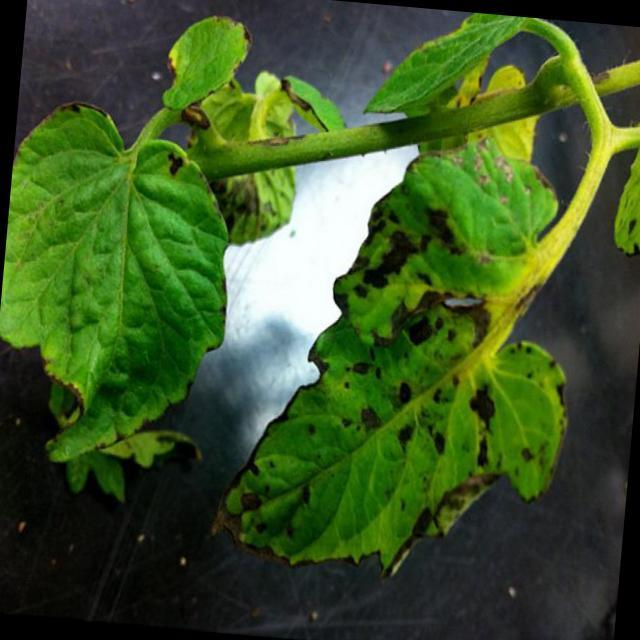Tomato leaf bacterial spot: (210, 129, 619, 588), (1, 103, 258, 522)
